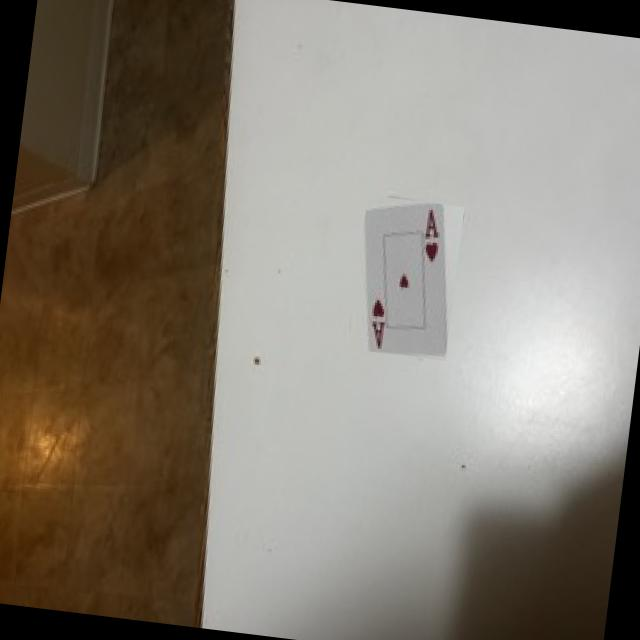Ace of hearts: (365, 201, 446, 354)
